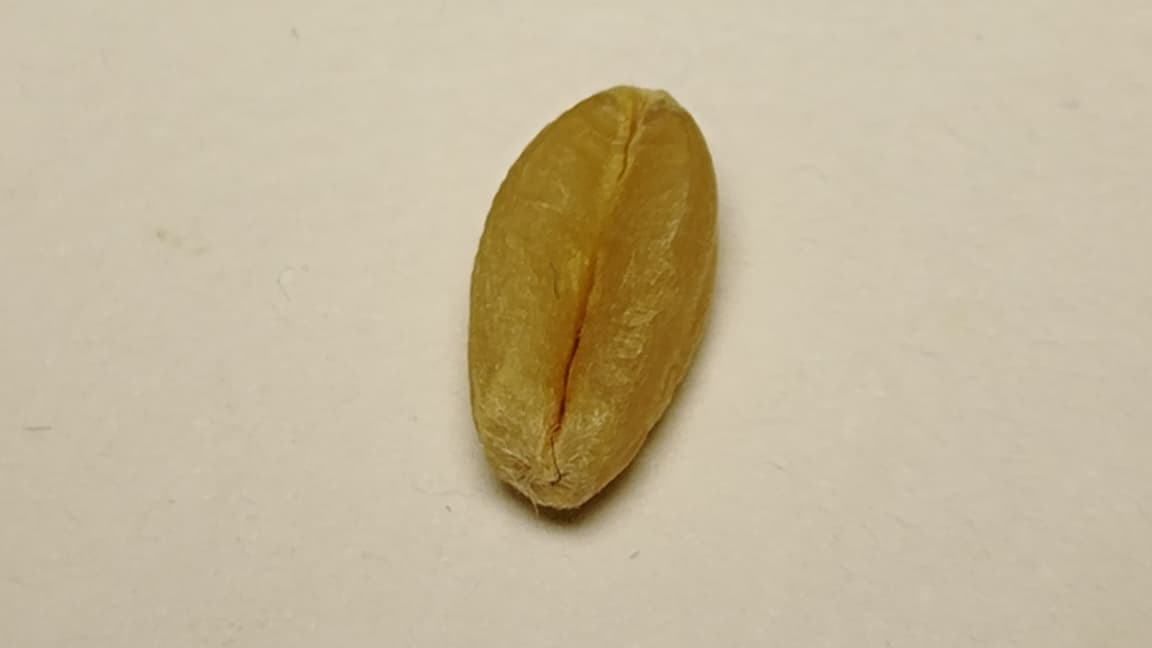healthy: (470, 85, 716, 507)
